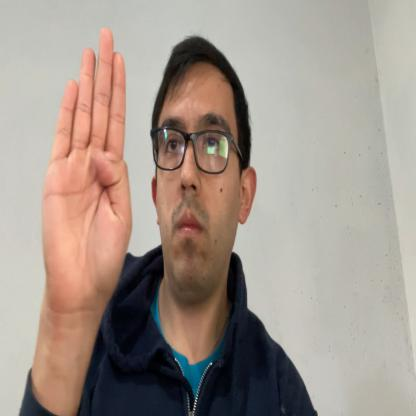B: (41, 26, 132, 325)
